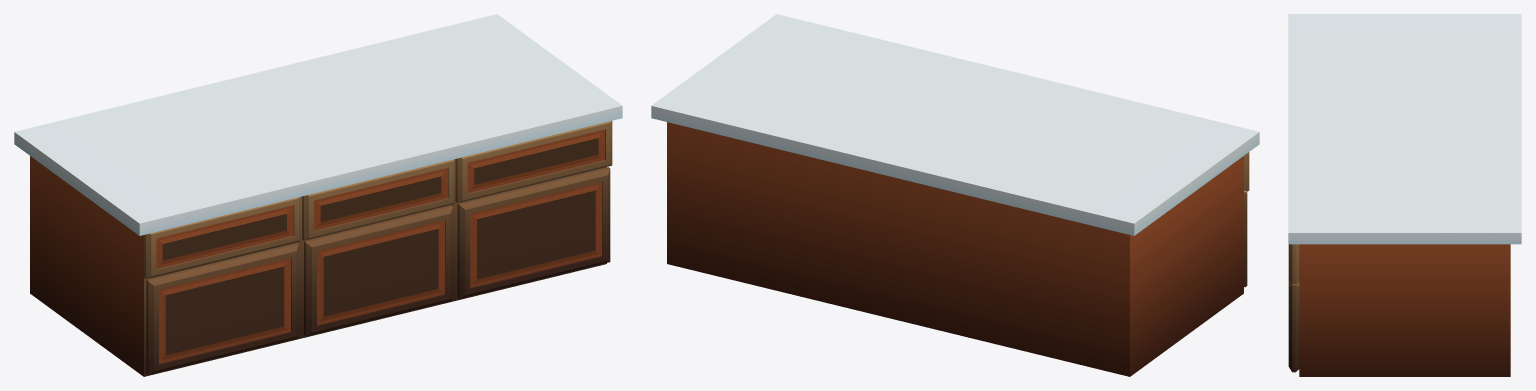
Rendered from BathroomCounter.FBX.
3 renders of one model, left to right at view 1: azimuth 30°, elevation 25°; view 2: azimuth 150°, elevation 25°; view 3: azimuth 270°, elevation 25°, orthographic. The views are drawn at different scales.
Visible parts, largest first — view 1: Bathroom Counter; view 2: Bathroom Counter; view 3: Bathroom Counter.
Part boxes in pixels (<box>): Bathroom Counter: <box>14,14,622,376</box>; Bathroom Counter: <box>651,14,1259,376</box>; Bathroom Counter: <box>1288,14,1521,376</box>.
Size of the model in its own units: 94.32 by 29.85 by 42.44.
Materials: 1 (1 with a texture image).
